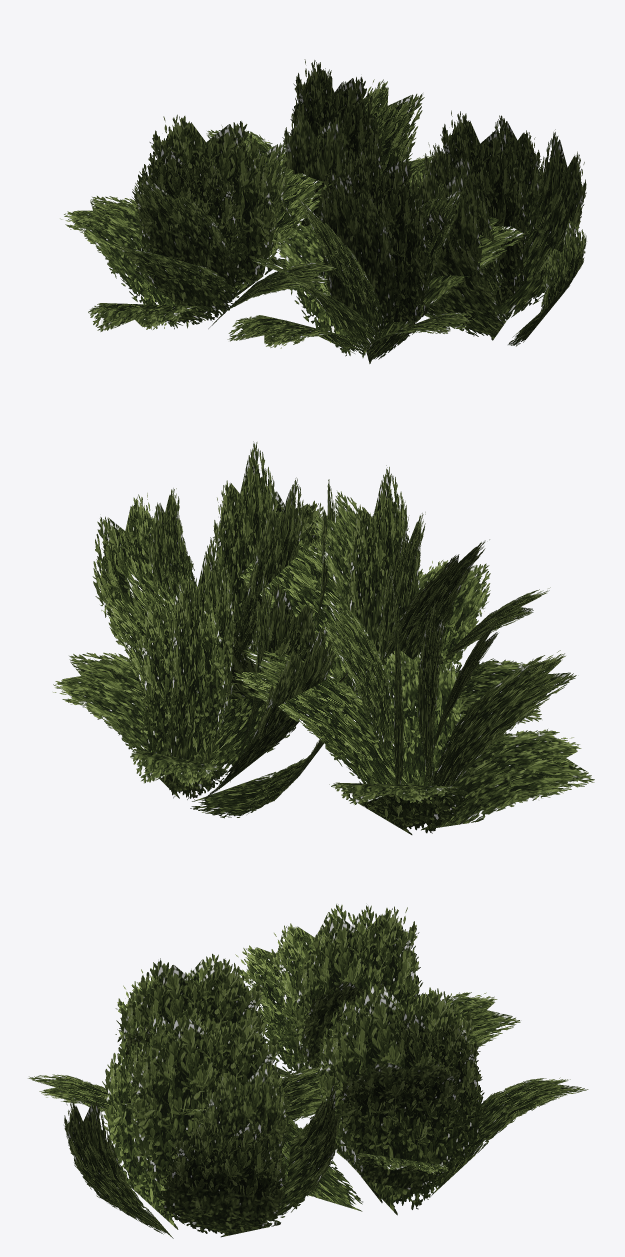
File: bush2.2.fbx
3 renders of one model, top to bottom at view 1: azimuth 30°, elevation 25°; view 2: azimuth 150°, elevation 25°; view 3: azimuth 270°, elevation 25°, orthographic. The views are drawn at different scales.
Parts seen in each view (by area): view 1: pPlane78; view 2: pPlane78; view 3: pPlane78.
Part boxes in pixels (<box>): pPlane78: <box>60,59,586,363</box>; pPlane78: <box>53,441,594,834</box>; pPlane78: <box>28,904,588,1238</box>.
Size of the model in its own units: 250 by 116 by 256.
